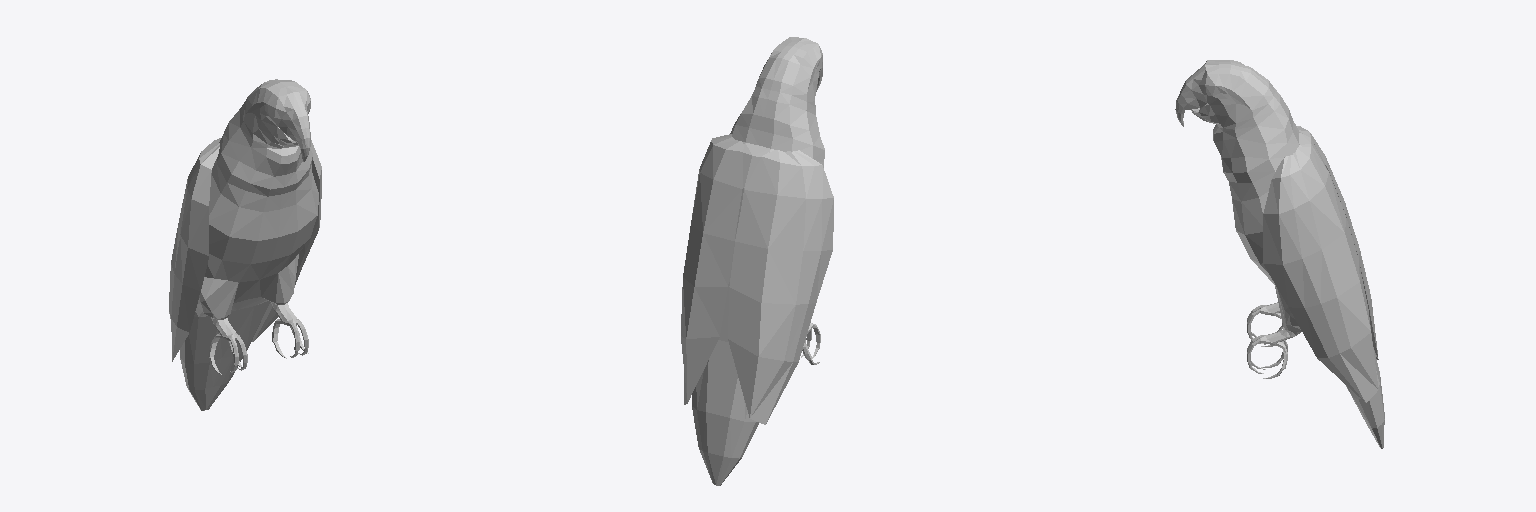
Rendered from Parrot.obj.
The picture shows the model from 3 angles: view 1: azimuth 30°, elevation 25°; view 2: azimuth 150°, elevation 25°; view 3: azimuth 270°, elevation 25°; orthographic projection.
Visible parts, largest first — view 1: Parrot_body_Mesh.001; view 2: Parrot_body_Mesh.001; view 3: Parrot_body_Mesh.001.
Boxes of the visible parts, x1=… form: Parrot_body_Mesh.001: x1=169, y1=79, x2=321, y2=410; Parrot_body_Mesh.001: x1=681, y1=37, x2=833, y2=485; Parrot_body_Mesh.001: x1=1175, y1=60, x2=1384, y2=448.
Size of the model in its own units: 0.7878 by 2.16 by 1.07.